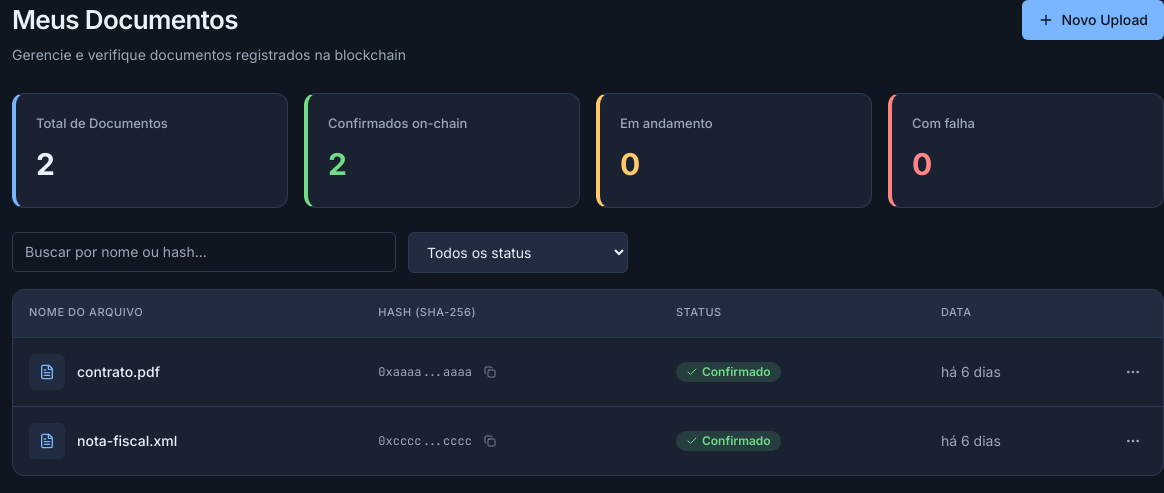
Test case: DashboardPage › lista documentos e filtra pela busca local
The image size is (1164, 493).
Expected: the text "contrato.pdf" is shown, 77,362 -> 160,382
Expected: the text "nota-fiscal.xml" is shown, 77,431 -> 177,451
In the field with placeholder "Buscar por nome ou hash...": (204, 252) 12,232 -> 396,272, type "nota"
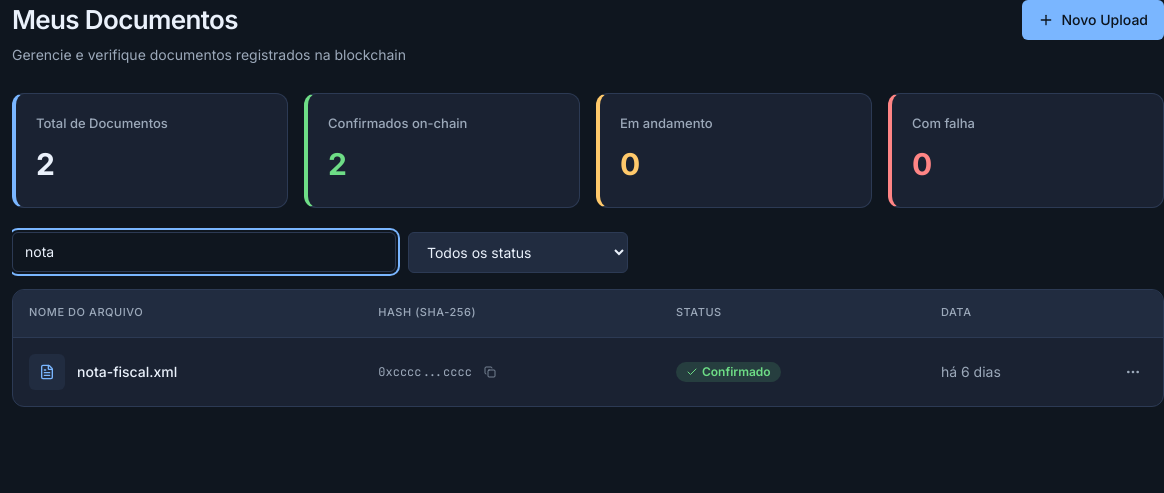
Now the link "contrato.pdf" is gone
Replace the text in the field with placeholder "Buscar por nome ou hash..." with "inexistente": (204, 252) 12,232 -> 396,272
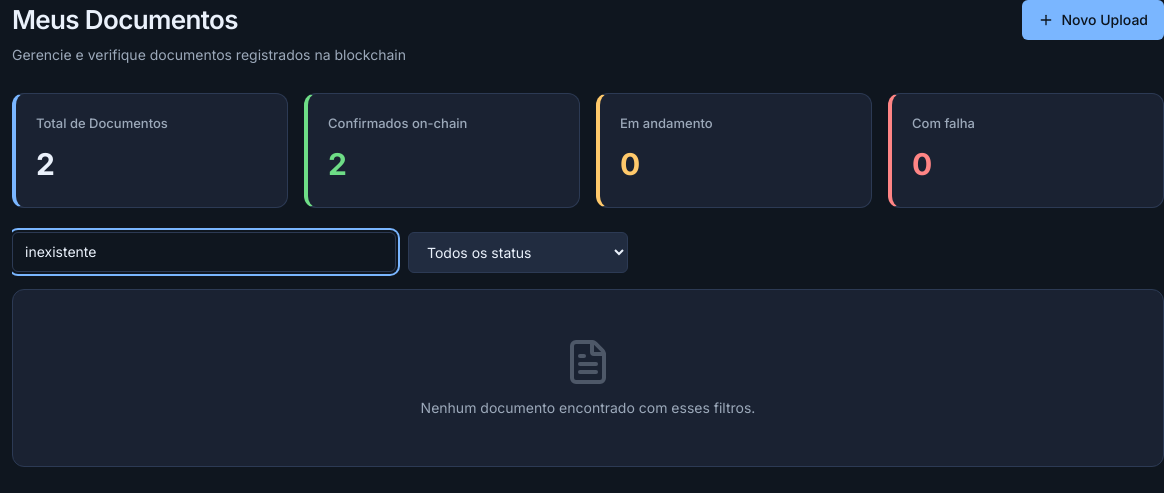
Now the text "Nenhum documento encontrado com esses filtros." is shown, box 421,398 -> 755,416
